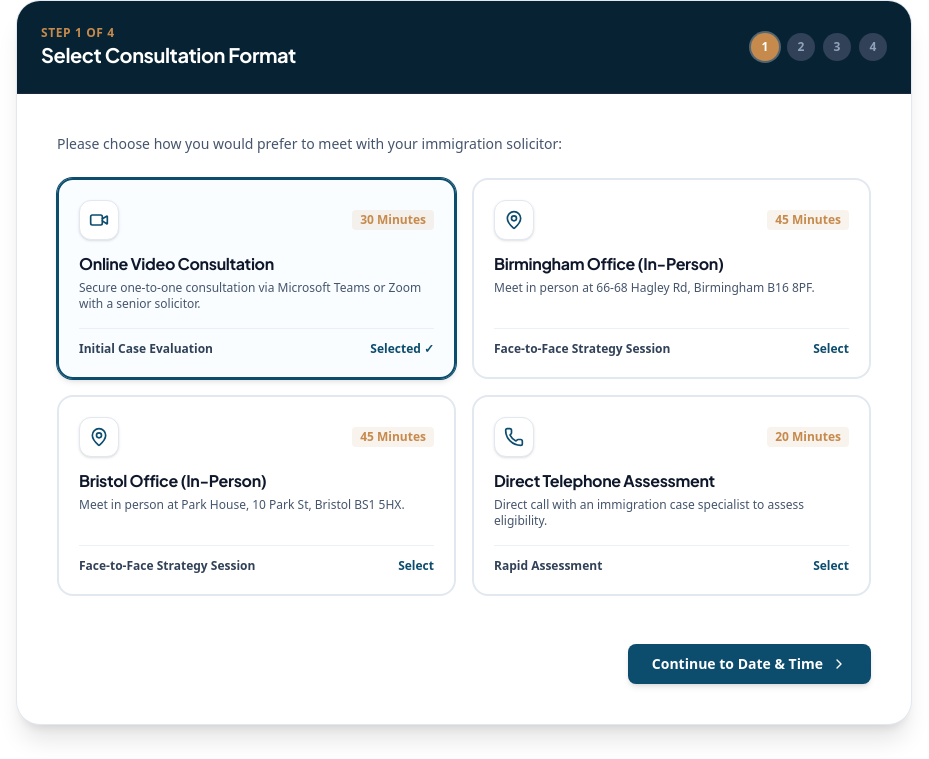
AppointmentScheduler Multi-Step Flow › advances from step 2 to step 3 with contact details form
This screenshot has width=929, height=759.
Note: Step 1 → 2
Click the button "Continue to Date & Time" at (749, 664), box 628,644 -> 871,684
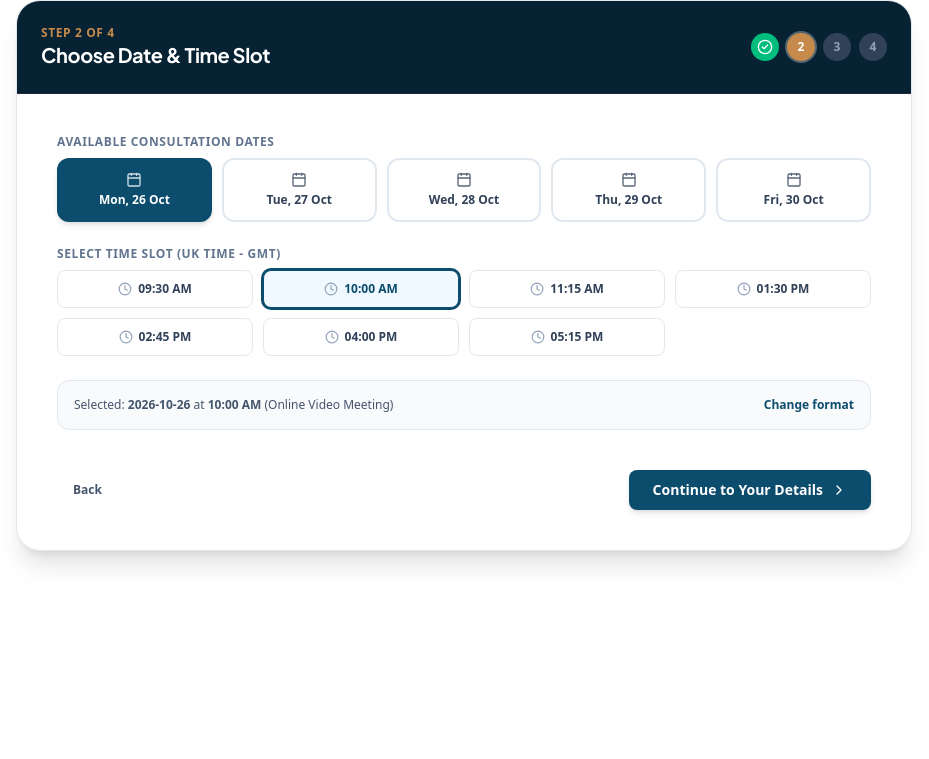
Note: Step 2 → 3
Click the button "Continue to Your Details" at (750, 490), box 629,470 -> 871,510
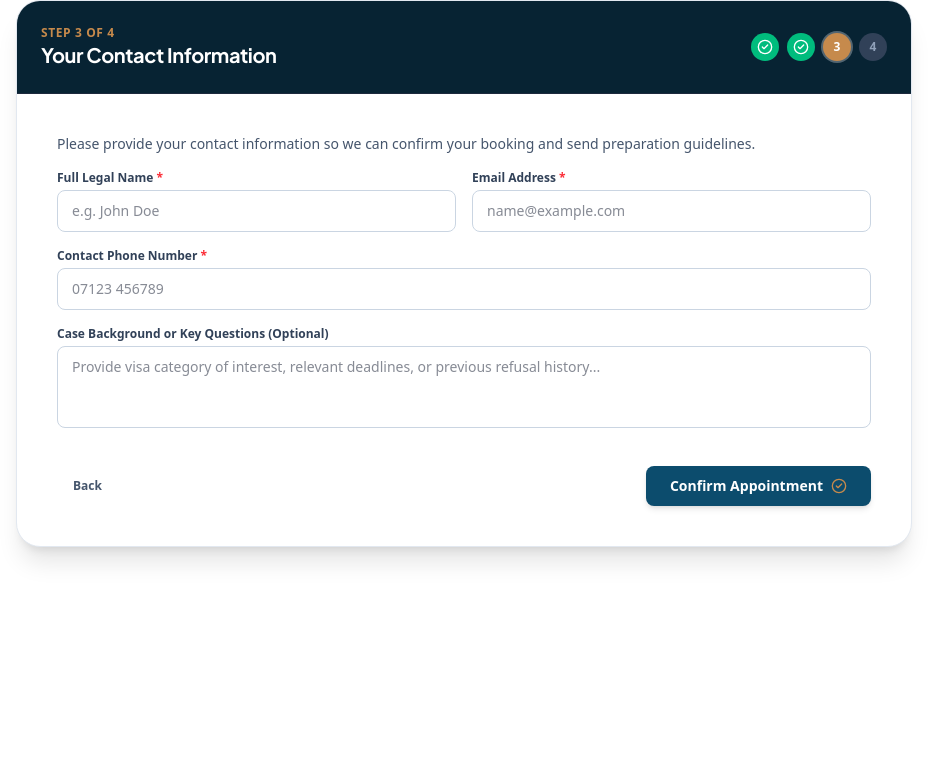
Now the text "Step 3 of 4" is shown, box 41,24 -> 115,41
Now the heading "Your Contact Information" is shown, box 41,41 -> 276,69
Now the text "Full Legal Name *" is shown, box 57,169 -> 163,186
